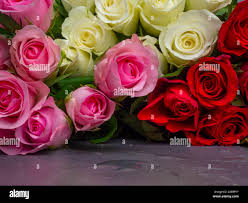lale: (97, 38, 164, 102), (11, 103, 85, 158), (148, 79, 205, 147), (161, 7, 221, 66), (60, 82, 117, 134), (0, 65, 42, 135), (57, 9, 120, 54), (11, 23, 63, 72), (191, 51, 236, 106), (202, 106, 248, 146), (91, 0, 142, 35)
